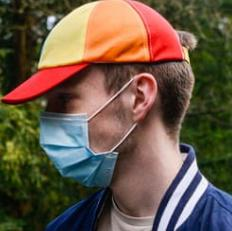OK: (38, 85, 129, 188)
